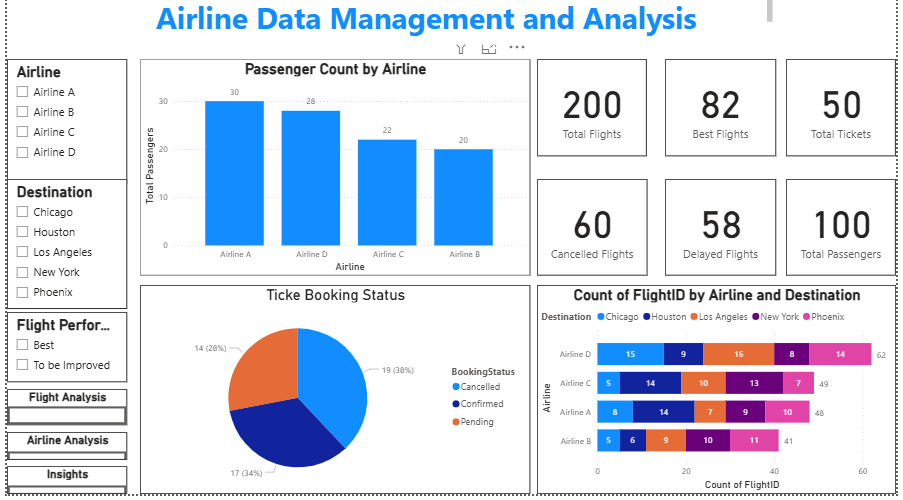

The dashboard page shown, as its layout file describes it:
{"tool":"powerbi","page":{"name":"Executive Dashboard","canvas":[1280,720],"ordinal":0},"visuals":[{"type":"clusteredColumnChart","title":"Passenger Count by Airline","fields":{"Category":["flight_information.Airline"],"Y":["flight_information.Total Passengers"]},"box":[191.5,93.6,561.6,312.5],"z":0},{"type":"pieChart","title":"Ticke Booking Status","fields":{"Category":["ticket_information.BookingStatus"],"Y":["CountNonNull(ticket_information.TicketID)"]},"box":[191.5,419,561.6,301],"z":1000},{"type":"barChart","fields":{"Category":["flight_information.Airline"],"Series":["flight_information.Destination"],"Y":["CountNonNull(flight_information.FlightID)"]},"box":[763.2,419,517,301],"z":2000},{"type":"card","fields":{"Values":["flight_information.Total Passengers"]},"box":[1121.8,266.4,158.4,139],"z":3000},{"type":"card","fields":{"Values":["flight_information.Total Tickets"]},"box":[1121.8,93.6,158.4,139.7],"z":4000},{"type":"card","fields":{"Values":["flight_information.Best Flights"]},"box":[947.5,93.6,159.8,139.7],"z":5000},{"type":"card","fields":{"Values":["flight_information.Total Flights"]},"box":[763.2,93.6,158.4,139.7],"z":6000},{"type":"slicer","fields":{"Values":["flight_information.Airline"]},"box":[0,93.6,172.8,178.6],"z":7000},{"type":"slicer","fields":{"Values":["flight_information.Destination"]},"box":[0,266.4,172.8,187.2],"z":8000},{"type":"textbox","box":[109.4,0,997.9,73.4],"z":9000},{"type":"slicer","fields":{"Values":["flight_information.Flight Performance"]},"box":[0,457.9,172.8,100.8],"z":10000},{"type":"actionButton","title":"Flight Analysis","box":[0,568.8,172.8,51.8],"z":11000},{"type":"actionButton","title":"Airline Analysis","box":[0,630.7,172.8,40.3],"z":12000},{"type":"actionButton","title":"Insights","box":[0,679.7,172.8,40.3],"z":13000},{"type":"card","fields":{"Values":["flight_information.Cancelled Flights"]},"box":[763.2,266.4,159,139],"z":13001},{"type":"card","fields":{"Values":["flight_information.Delayed Flights"]},"box":[947.5,266.4,159.8,139],"z":13002}]}

Visuals, with their boxes in screenshot pixels (x1, y1, x2, y2), scaled from the page's 1280x720 canvas onto the 903x500 screenshot:
"Passenger Count by Airline" clusteredColumnChart: <box>135,65,531,282</box>
"Ticke Booking Status" pieChart: <box>135,291,531,499</box>
barChart - flight_information.Airline x flight_information.Destination: <box>538,291,902,499</box>
card - flight_information.Total Passengers: <box>791,185,902,282</box>
card - flight_information.Total Tickets: <box>791,65,902,162</box>
card - flight_information.Best Flights: <box>668,65,781,162</box>
card - flight_information.Total Flights: <box>538,65,650,162</box>
slicer - flight_information.Airline: <box>0,65,122,189</box>
slicer - flight_information.Destination: <box>0,185,122,315</box>
textbox: <box>77,0,781,51</box>
slicer - flight_information.Flight Performance: <box>0,318,122,388</box>
"Flight Analysis" actionButton: <box>0,395,122,431</box>
"Airline Analysis" actionButton: <box>0,438,122,466</box>
"Insights" actionButton: <box>0,472,122,499</box>
card - flight_information.Cancelled Flights: <box>538,185,651,282</box>
card - flight_information.Delayed Flights: <box>668,185,781,282</box>
